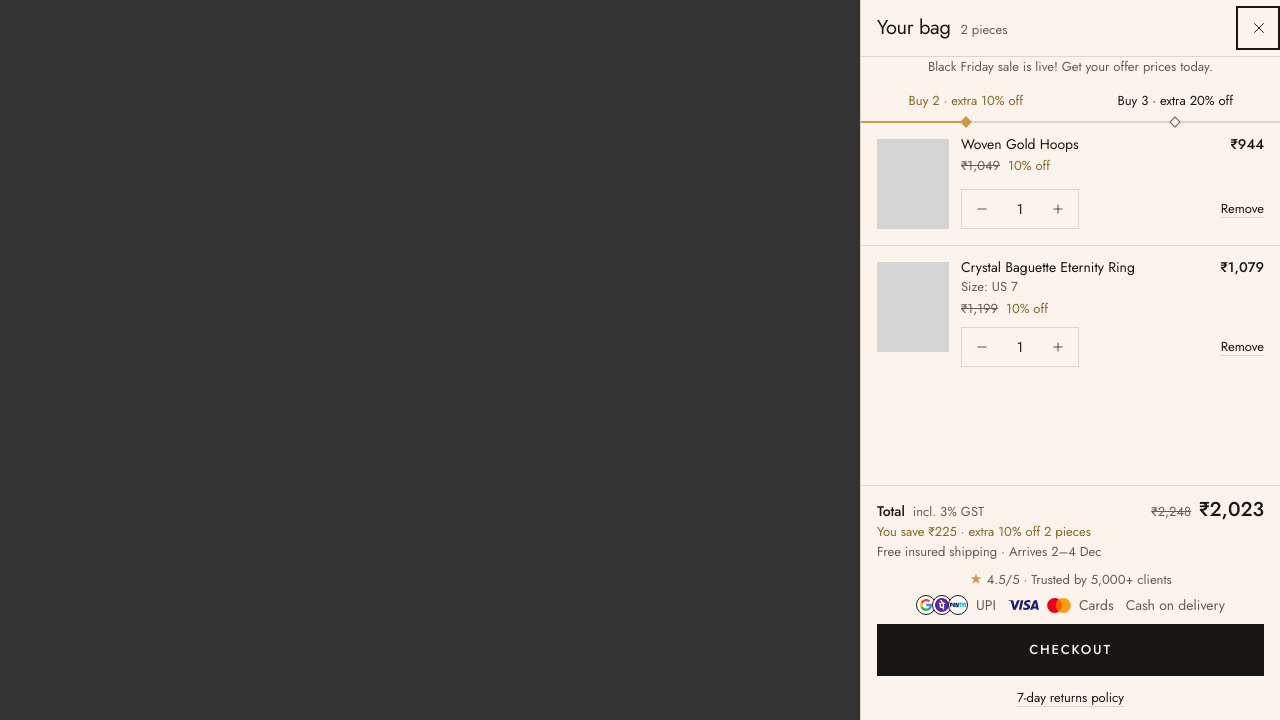
the bag, state by state › removed: an Undo notice under the offer, which puts the piece back
Later steps or results of the test are not shown.
Click the button with aria-label "Remove Woven Gold Hoops" at (1236, 209), box [1209,187,1264,231]
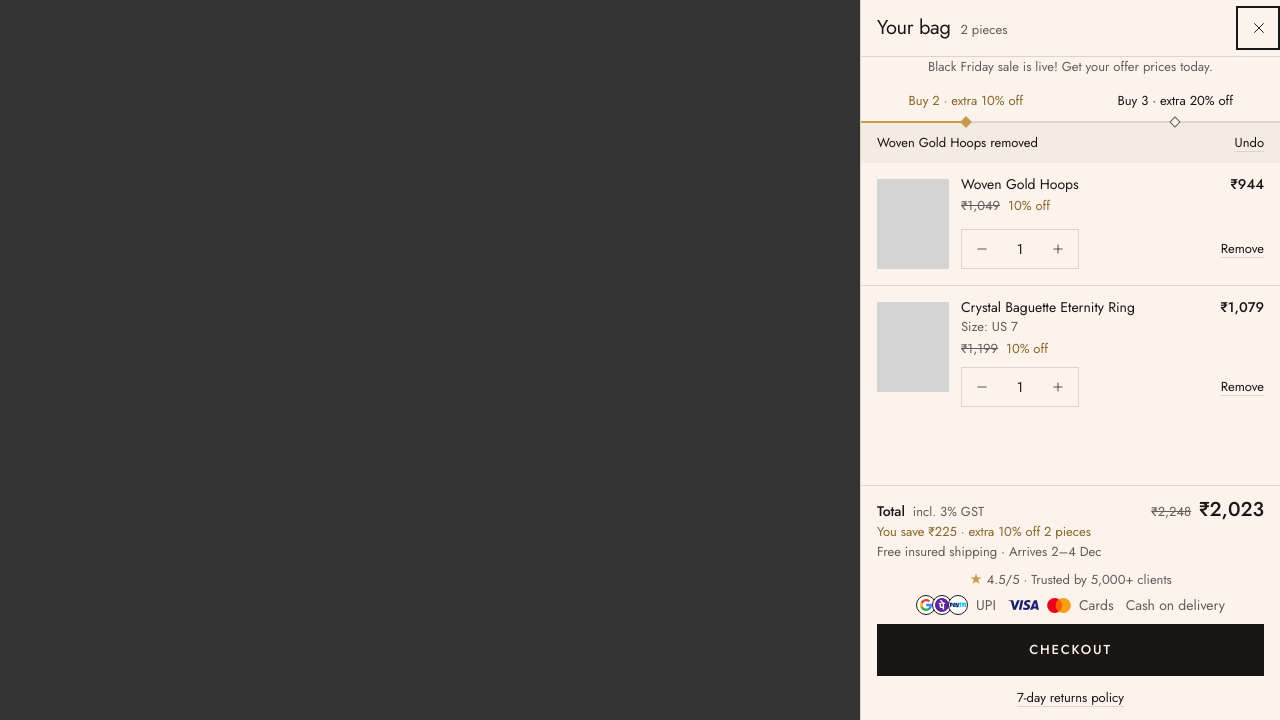
expect the message "Woven Gold Hoops removed Undo" is shown: met, box [861,123,1279,163]
